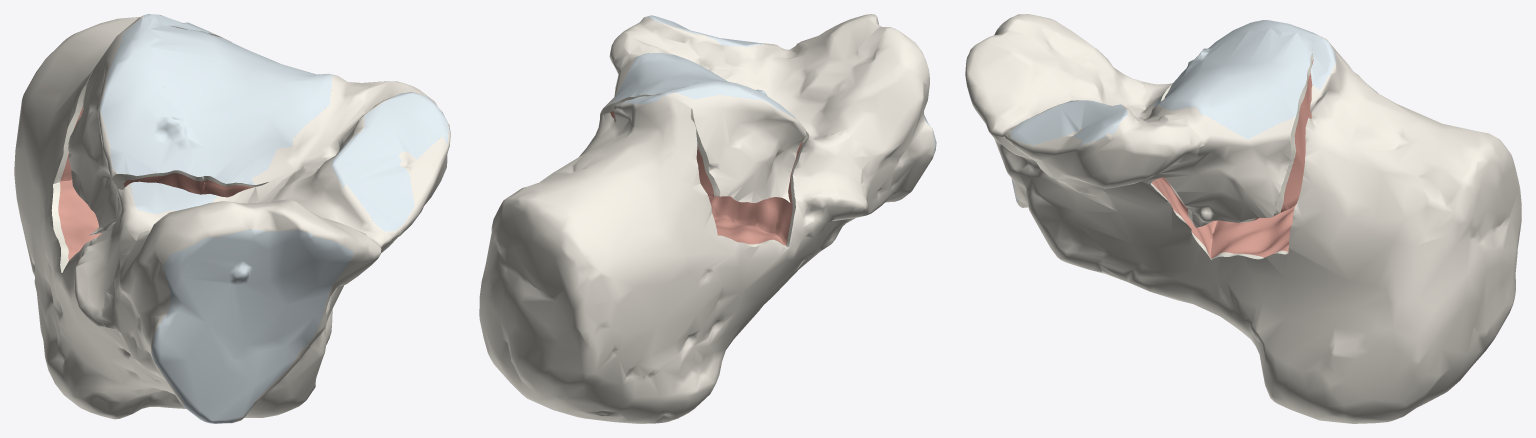
Rendered from S-IIIAC_young.glb.
The picture shows the model from 3 angles, left to right: view 1: azimuth 30°, elevation 25°; view 2: azimuth 150°, elevation 25°; view 3: azimuth 270°, elevation 25°; orthographic projection. The views are drawn at different scales.
Visible parts, largest first — view 1: calcaneus: sustentacular fragment, calcaneus: tuberosity, calcaneus: central joint fragment (depressed), calcaneus: lateral joint fragment; view 2: calcaneus: tuberosity, calcaneus: sustentacular fragment, calcaneus: lateral joint fragment, calcaneus: central joint fragment (depressed); view 3: calcaneus: tuberosity, calcaneus: sustentacular fragment, calcaneus: central joint fragment (depressed), calcaneus: lateral joint fragment.
Part boxes in pixels (x1,y1,x2,y2): calcaneus: sustentacular fragment: (101,81,450,423); calcaneus: tuberosity: (14,14,361,419); calcaneus: central joint fragment (depressed): (149,19,363,197); calcaneus: lateral joint fragment: (68,18,204,235); calcaneus: tuberosity: (479,35,867,423); calcaneus: sustentacular fragment: (609,14,936,244); calcaneus: lateral joint fragment: (674,80,806,202); calcaneus: central joint fragment (depressed): (600,38,758,119); calcaneus: tuberosity: (1101,36,1521,423); calcaneus: sustentacular fragment: (965,14,1202,272); calcaneus: central joint fragment (depressed): (1135,31,1315,227); calcaneus: lateral joint fragment: (1168,20,1319,91).
Bounding box in the file's own units: 0.0475 × 0.0513 × 0.0757.
